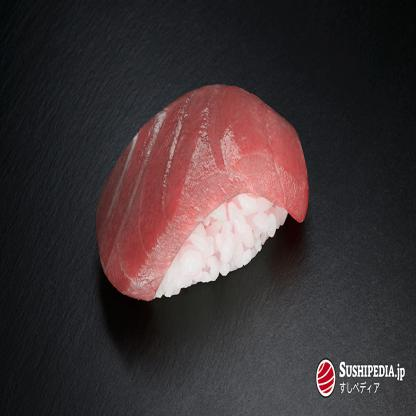maguro: (92, 78, 317, 321)
